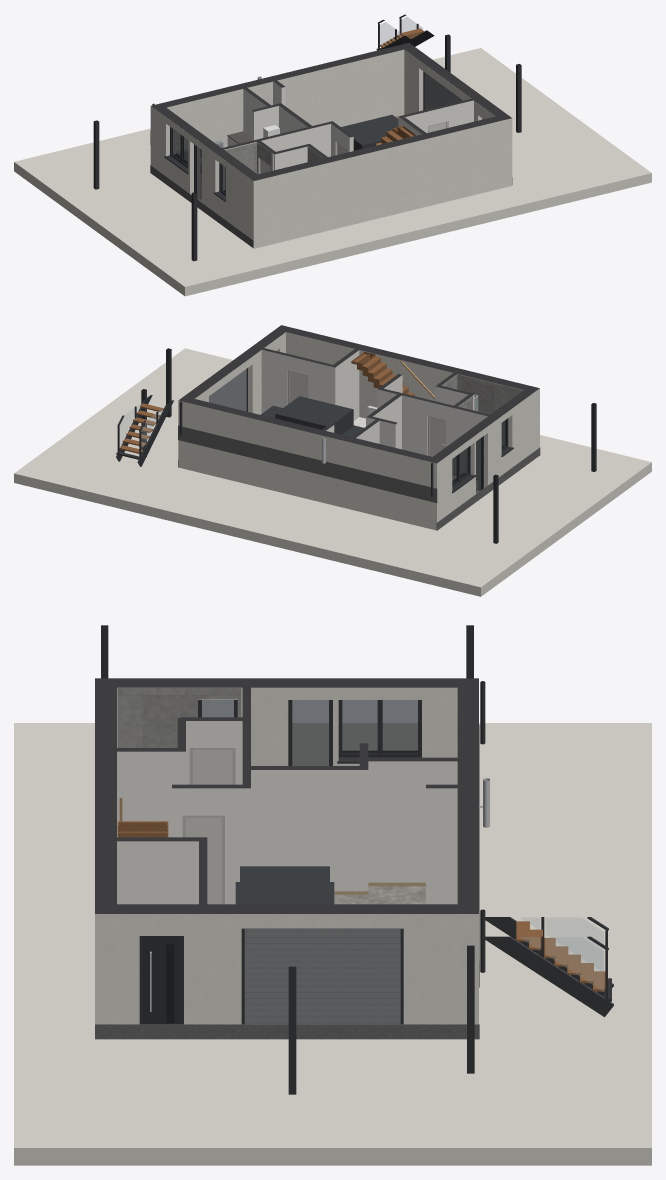
File: dum_b_1pp.glb
The picture shows the model from 3 angles, top to bottom: view 1: azimuth 30°, elevation 25°; view 2: azimuth 150°, elevation 25°; view 3: azimuth 270°, elevation 25°; orthographic projection. The views are drawn at different scales.
Parts seen in each view (by area): view 1: podstava, B_ext_omitka, rez_sten, B_int_omitka_int, B_ext_antracit, auto_garaz, pevne_obklad, B_ext_sokl, B_sklo_sklo, B_ext_vrata, B_ext_sklo_zabradli; view 2: podstava, B_ext_omitka, B_int_omitka_int, rez_sten, B_ext_sokl, B_ext_antracit, auto_garaz, pevne_obklad, B_int_dvere, B_int_drevo, B_ext_vrata, B_sklo_sklo (+2 smaller); view 3: podstava, B_int_omitka_int, B_ext_omitka, rez_sten, B_ext_vrata, B_ext_antracit, B_sklo_sklo, B_ext_sokl, pevne_obklad, auto_garaz, B_ext_sklo_zabradli, B_ext_dvere (+5 smaller).
Part boxes in pixels (box(x1,y1,x2,y2)): podstava: box(14, 48, 651, 296); B_ext_omitka: box(150, 49, 512, 247); rez_sten: box(151, 43, 511, 180); B_int_omitka_int: box(224, 82, 473, 173); B_ext_antracit: box(93, 14, 521, 261); auto_garaz: box(341, 114, 398, 150); pevne_obklad: box(225, 142, 323, 189); B_ext_sokl: box(150, 131, 512, 248); B_sklo_sklo: box(172, 128, 225, 201); B_ext_vrata: box(424, 72, 462, 109); B_ext_sklo_zabradli: box(380, 17, 423, 45); podstava: box(14, 348, 651, 596); B_ext_omitka: box(178, 332, 539, 530); B_int_omitka_int: box(261, 350, 487, 478); rez_sten: box(178, 325, 539, 463); B_ext_sokl: box(178, 425, 540, 530); B_ext_antracit: box(116, 348, 596, 543); auto_garaz: box(260, 396, 363, 436); pevne_obklad: box(442, 374, 523, 414); B_int_dvere: box(289, 372, 444, 456); B_int_drevo: box(351, 351, 414, 395); B_ext_vrata: box(209, 369, 246, 411); B_sklo_sklo: box(452, 420, 506, 493); podstava: box(14, 723, 651, 1165); B_int_omitka_int: box(117, 721, 457, 904); B_ext_omitka: box(95, 687, 478, 1024); rez_sten: box(95, 678, 478, 913); B_ext_vrata: box(244, 929, 400, 1024); B_ext_antracit: box(101, 625, 613, 1094); B_sklo_sklo: box(166, 700, 417, 1022); B_ext_sokl: box(95, 725, 479, 1039); pevne_obklad: box(117, 688, 241, 747); auto_garaz: box(235, 866, 334, 904); B_ext_sklo_zabradli: box(520, 917, 603, 991); B_ext_dvere: box(143, 936, 180, 1024).
Size of the model in its own units: 18.6 by 2.94 by 11.8.
Materials: 35 (9 with a texture image).
